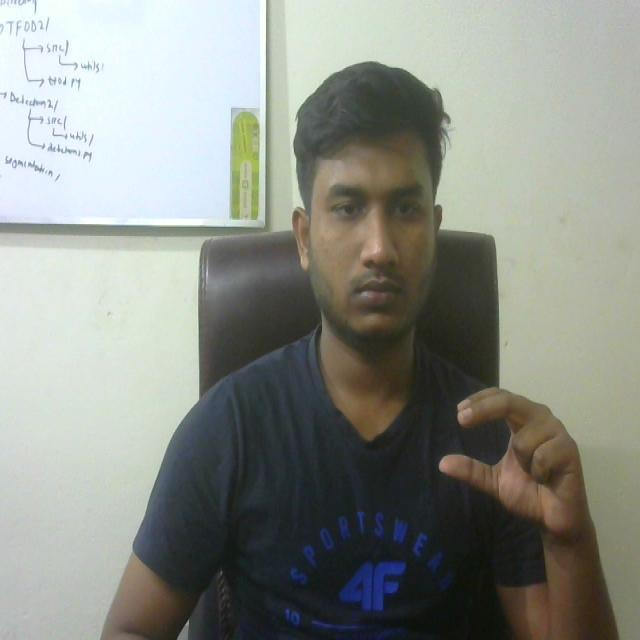No: (411, 371, 608, 569)
